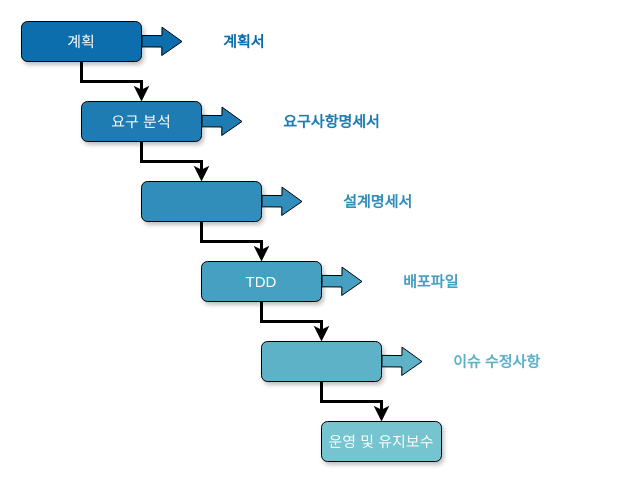
This 619x486 diagram has some shape labels left out. Here are the shapes that lost their labels. From the top down, the centre of each, then its label:
At pixel 202 202: "설계".
At pixel 322 362: "배포".
